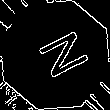N_SW: (23, 26, 87, 84)
